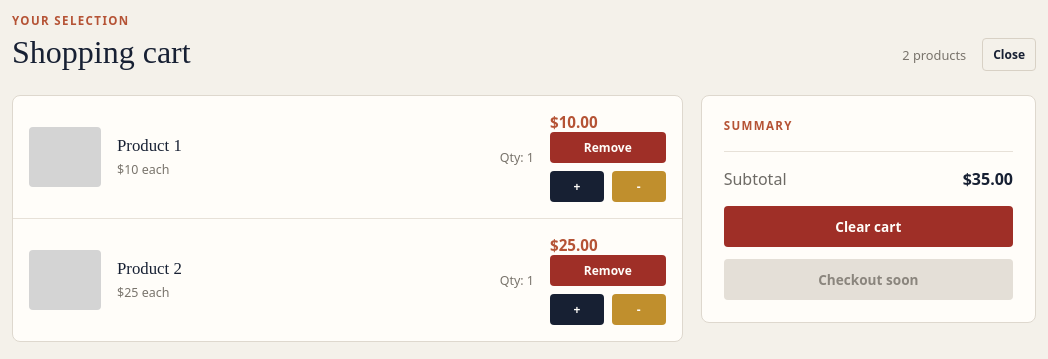
Test: Cart › removes only the selected item when clicking Remove
The width and height of the screenshot is (1048, 359).
Click the button "Remove" below "10.00" at (608, 148), box left=550, top=132, right=666, bottom=163
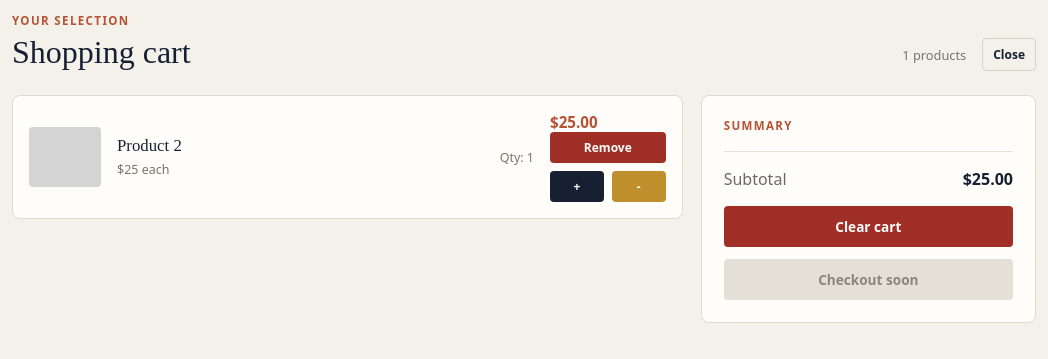
Check: the heading "Product 2" is shown, box left=117, top=136, right=182, bottom=155
Check: the heading "Product 1" is gone
